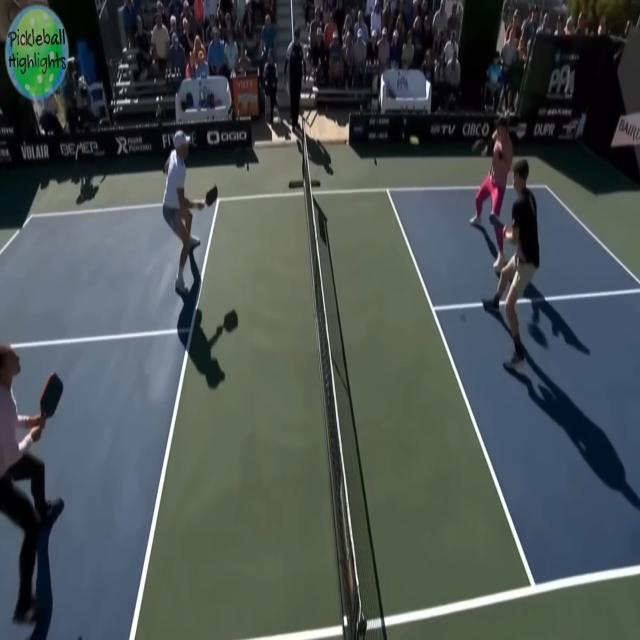ball: (408, 128, 421, 151)
